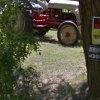Tractor: (5, 1, 89, 53)
